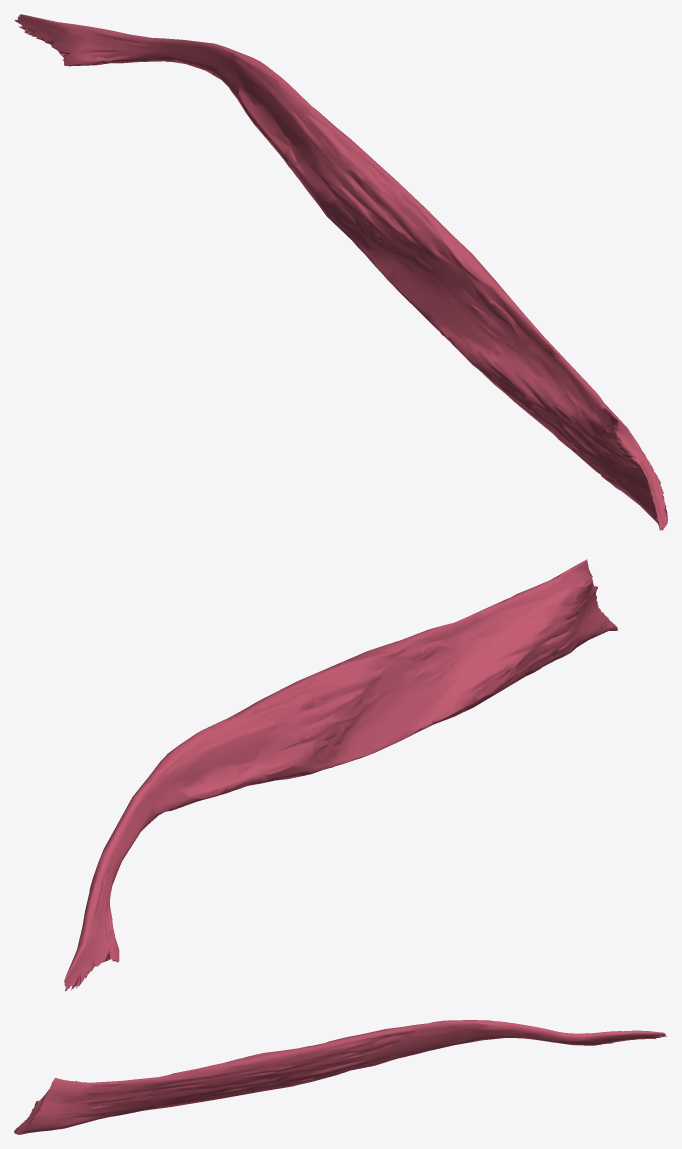
The picture shows the model from 3 angles, top to bottom: view 1: azimuth 30°, elevation 25°; view 2: azimuth 150°, elevation 25°; view 3: azimuth 270°, elevation 25°; orthographic projection. The views are drawn at different scales.
Visible parts, largest first — view 1: 右侧股薄肌; view 2: 右侧股薄肌; view 3: 右侧股薄肌.
Boxes of the visible parts, left/top/right/bottom form: 右侧股薄肌: left=14, top=14, right=667, bottom=530; 右侧股薄肌: left=64, top=559, right=617, bottom=991; 右侧股薄肌: left=14, top=1020, right=667, bottom=1134.
Bounding box in the file's own units: 0.0781 × 0.1337 × 0.7272.
